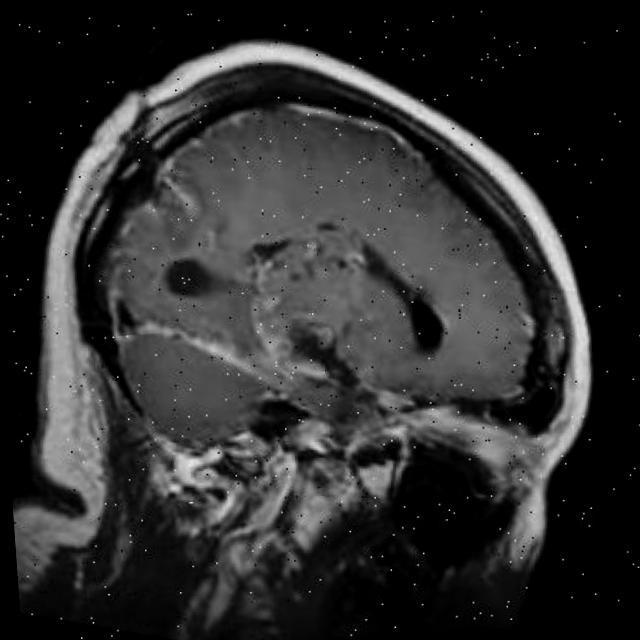MCI: (92, 196, 318, 395)
